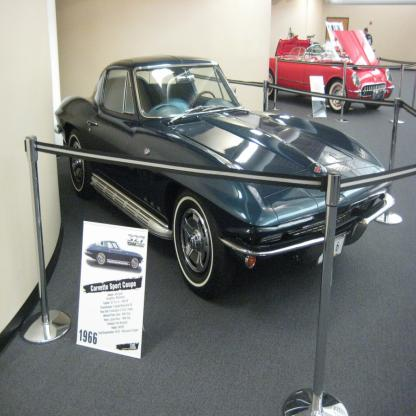Car: (55, 55, 397, 302), (270, 31, 396, 115)
